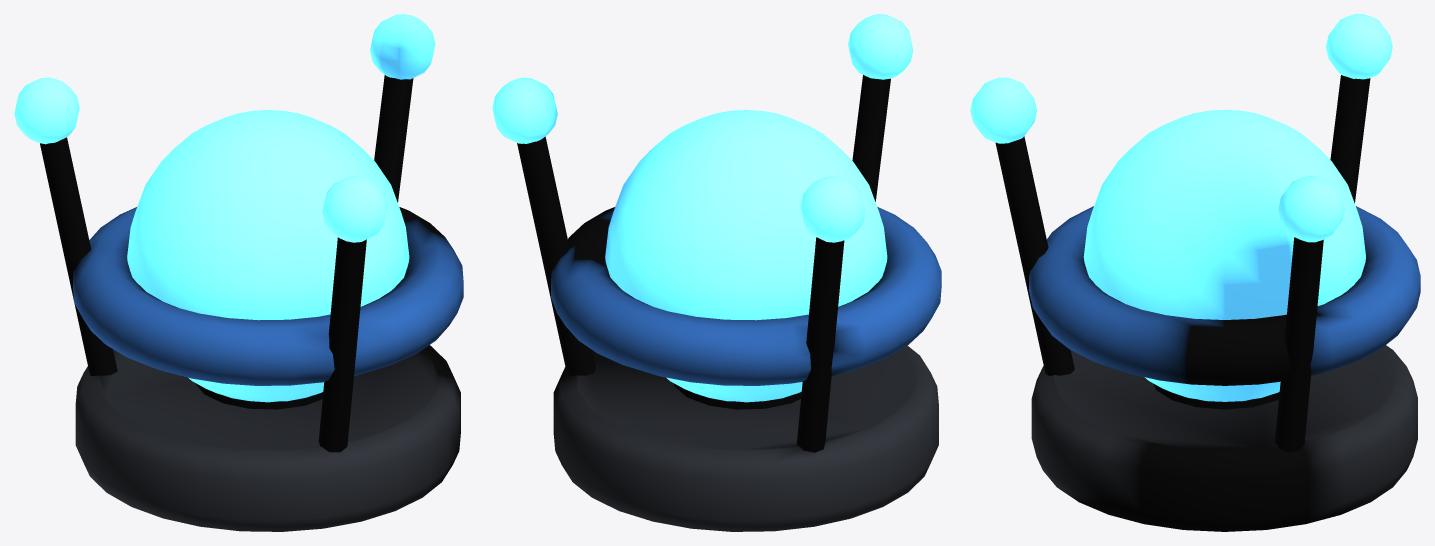
The model's file is part_shield.glb.
3 views of the same model, side by side, from view 1: azimuth 30°, elevation 25°; view 2: azimuth 150°, elevation 25°; view 3: azimuth 270°, elevation 25° (orthographic).
Visible parts, largest first — view 1: shield_body; view 2: shield_body; view 3: shield_body.
Part boxes in pixels (box(x1,y1,x2,y2)): shield_body: box(14, 14, 463, 531); shield_body: box(492, 14, 941, 531); shield_body: box(970, 14, 1420, 531).
Bounding box in the file's own units: 0.6012 × 0.545 × 0.6062.
